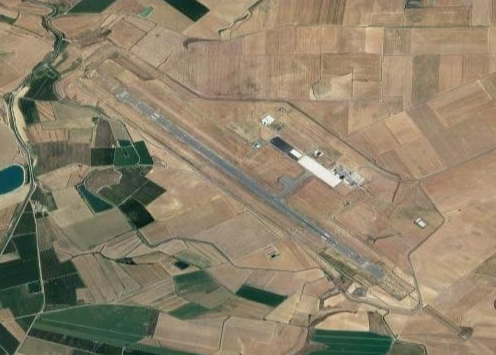airport: (109, 82, 392, 283)
motorway: (5, 92, 27, 151), (38, 15, 65, 63), (17, 151, 37, 213), (11, 62, 43, 93), (1, 213, 19, 254)
